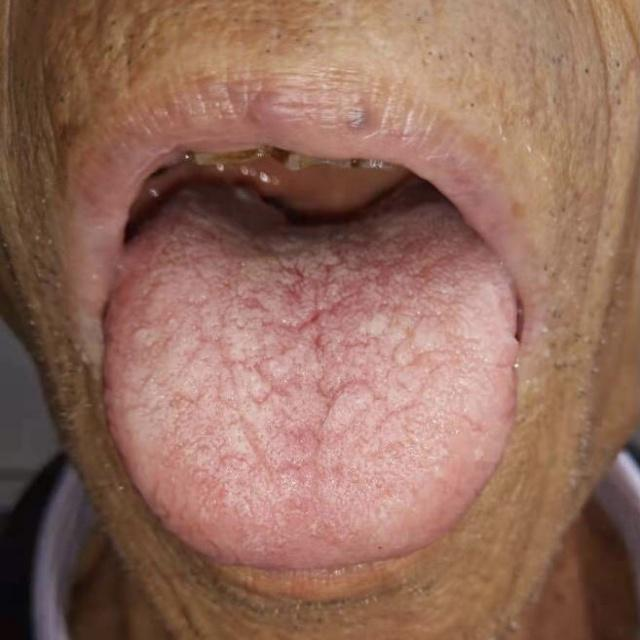baitaishe: (102, 181, 518, 570)
pangdashe: (103, 181, 519, 570)
shenquao: (226, 181, 421, 237)
